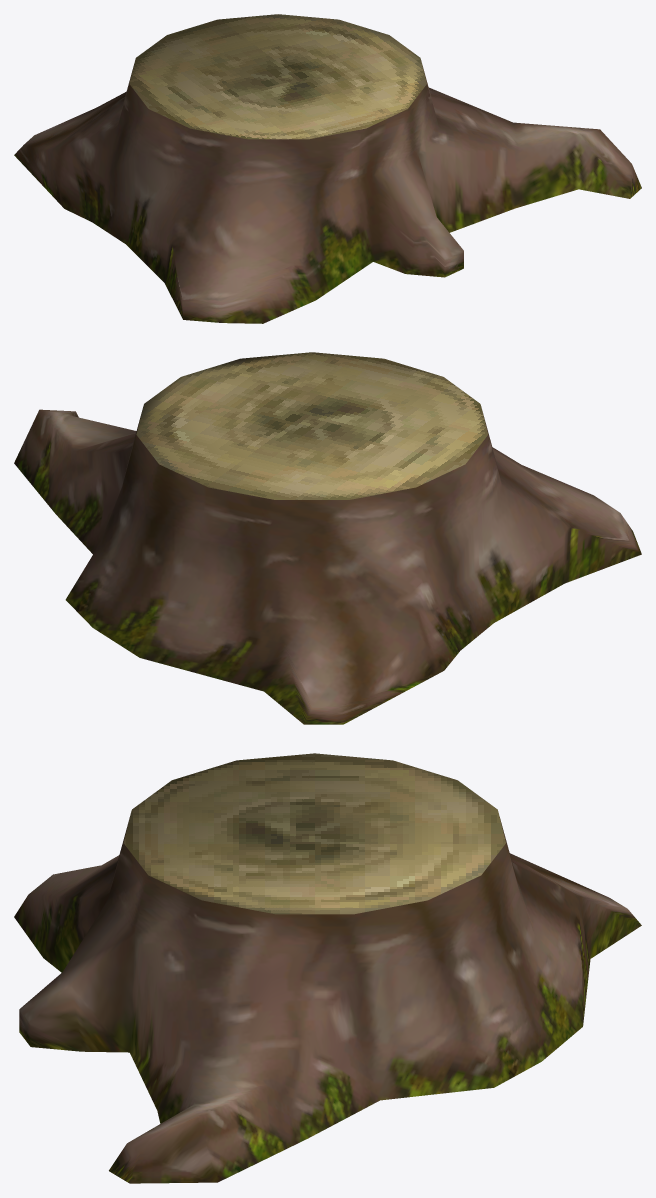
File: STUMP.fbx
3 views of the same model, one above another, from view 1: azimuth 30°, elevation 25°; view 2: azimuth 150°, elevation 25°; view 3: azimuth 270°, elevation 25° (orthographic). The views are drawn at different scales.
Visible parts, largest first — view 1: STUMP; view 2: STUMP; view 3: STUMP.
Boxes of the visible parts, bbox=[...] form: STUMP: bbox=[14, 14, 641, 323]; STUMP: bbox=[14, 352, 641, 724]; STUMP: bbox=[14, 753, 641, 1183].
Size of the model in its own units: 27153 by 7023 by 24002.
Materials: 2 (2 with a texture image).
